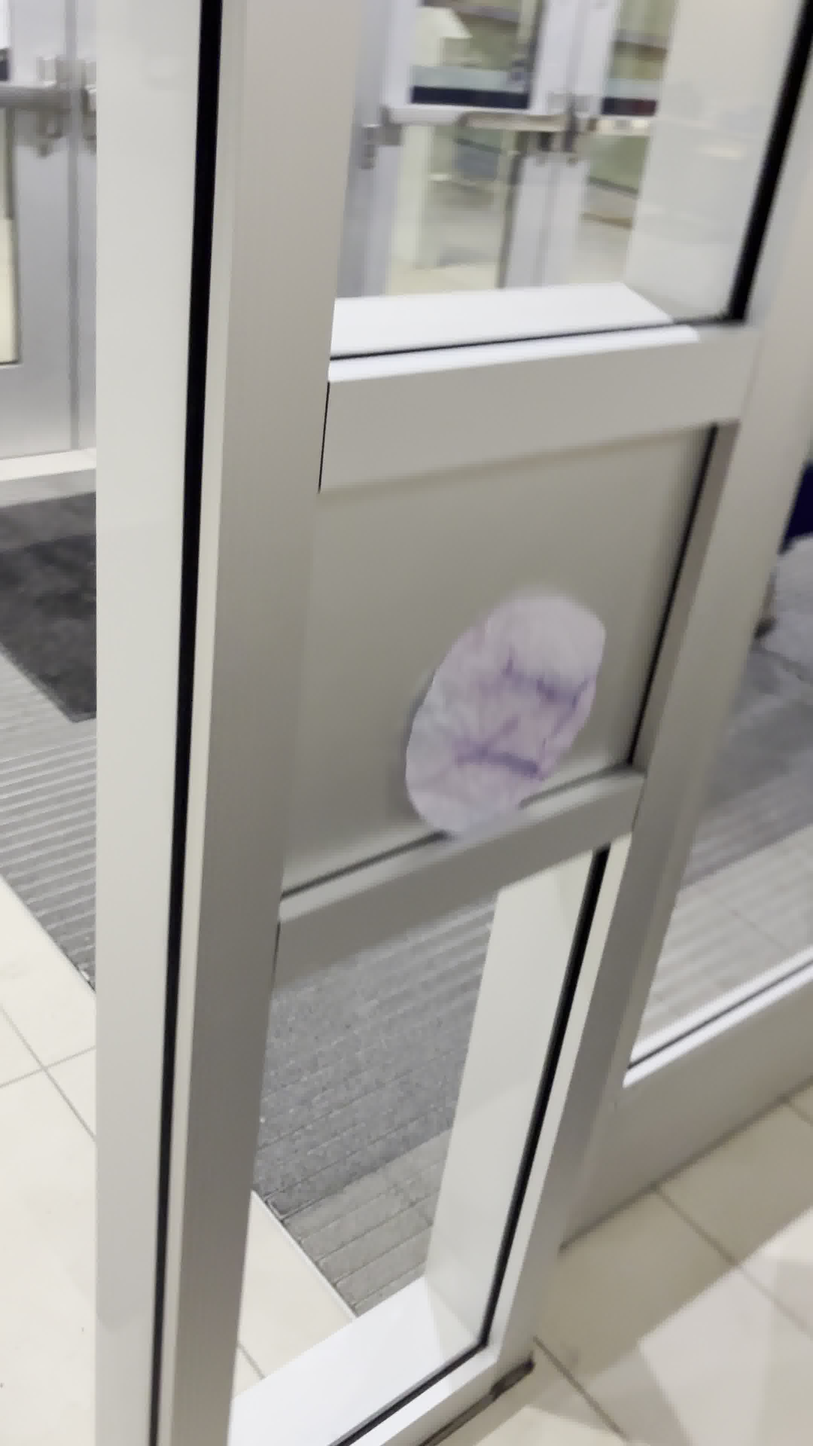Target: (400, 590, 607, 840)
